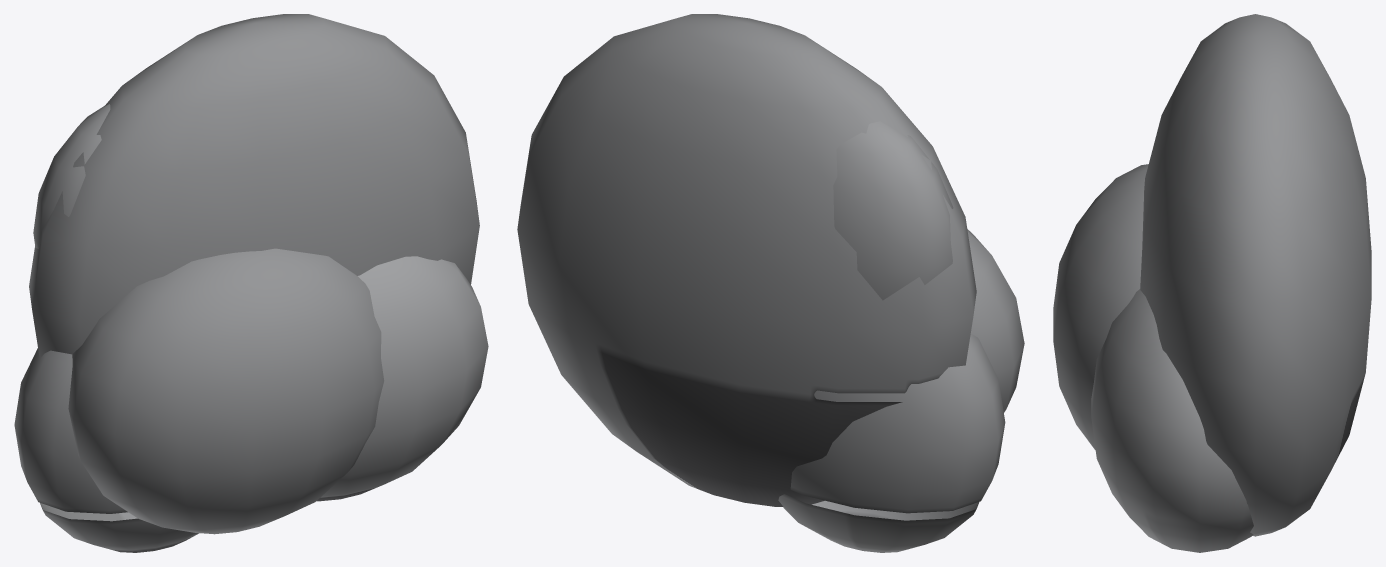
3 views of the same model, side by side, from view 1: azimuth 30°, elevation 25°; view 2: azimuth 150°, elevation 25°; view 3: azimuth 270°, elevation 25° (orthographic). The views are drawn at different scales.
Size of the model in its own units: 0.3947 by 0.3997 by 0.2293.
